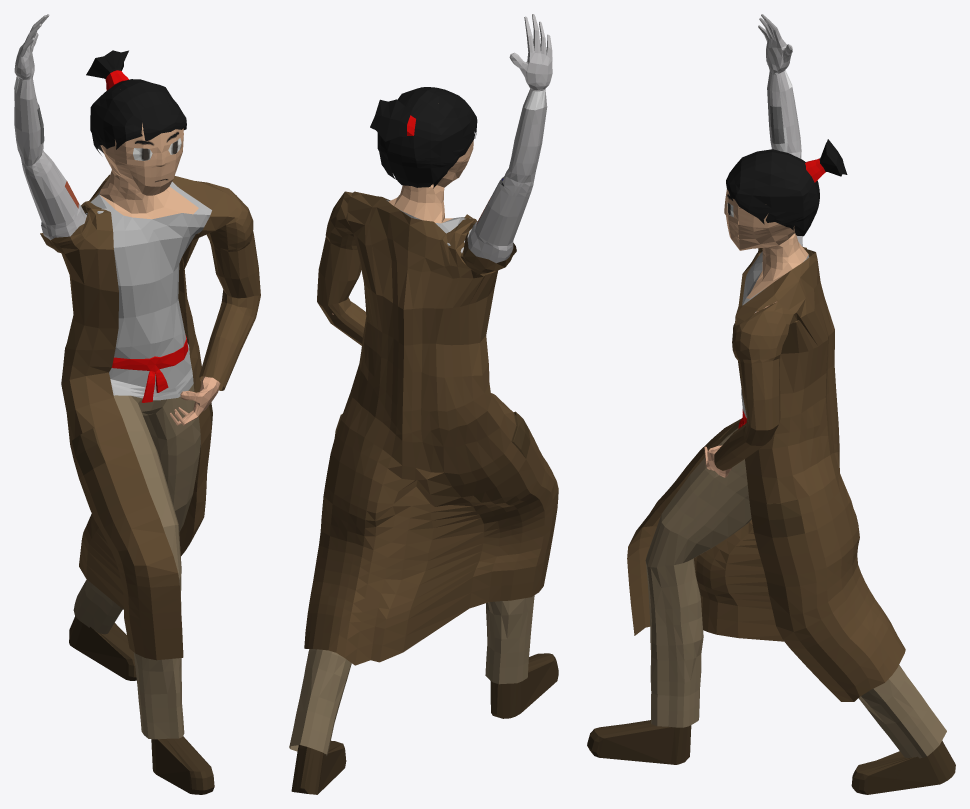
File: Special_Attack_000023.obj
3 renders of one model, left to right at view 1: azimuth 30°, elevation 25°; view 2: azimuth 150°, elevation 25°; view 3: azimuth 270°, elevation 25°, orthographic. The views are drawn at different scales.
Parts seen in each view (by area): view 1: Hair_Cube.004; view 2: Hair_Cube.004; view 3: Hair_Cube.004.
Part boxes in pixels (<box>): Hair_Cube.004: <box>14,14,260,794</box>; Hair_Cube.004: <box>289,14,558,794</box>; Hair_Cube.004: <box>587,14,955,794</box>.
Bounding box in the file's own units: 1.41 × 4.24 × 2.
